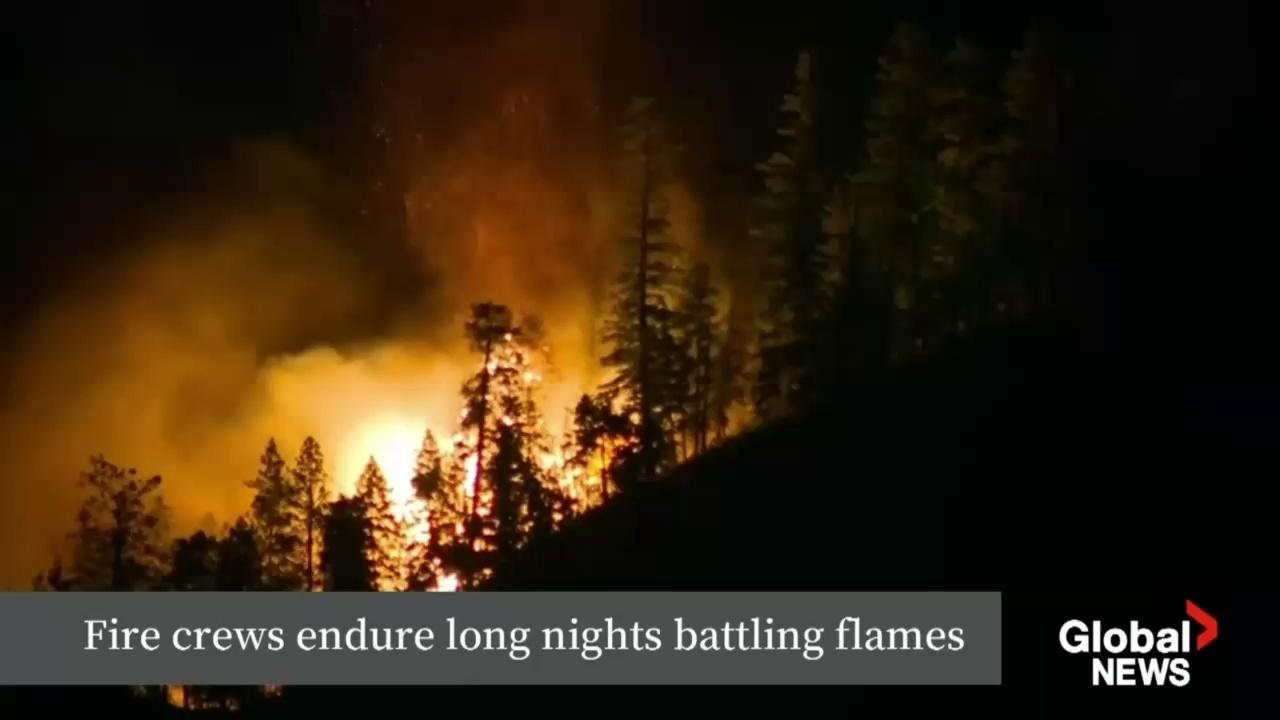fire: (361, 326, 607, 592)
smoke: (0, 0, 782, 593)
